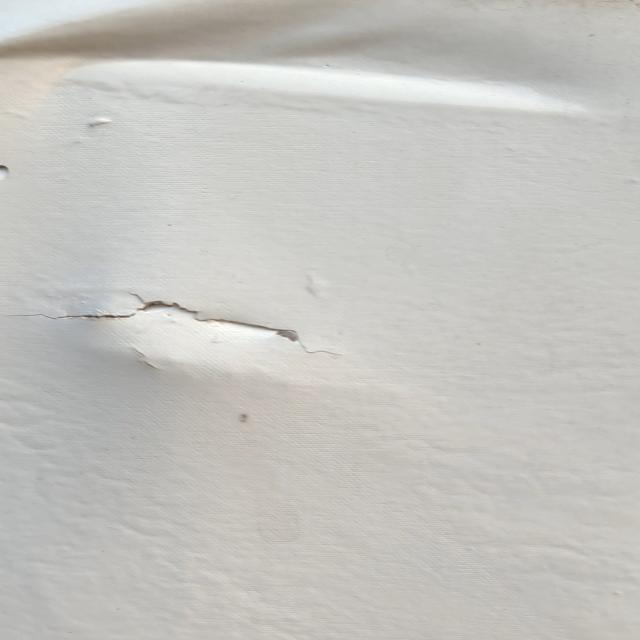Dents or Deformation: (1, 1, 640, 126)
Scratches: (17, 279, 354, 382)
